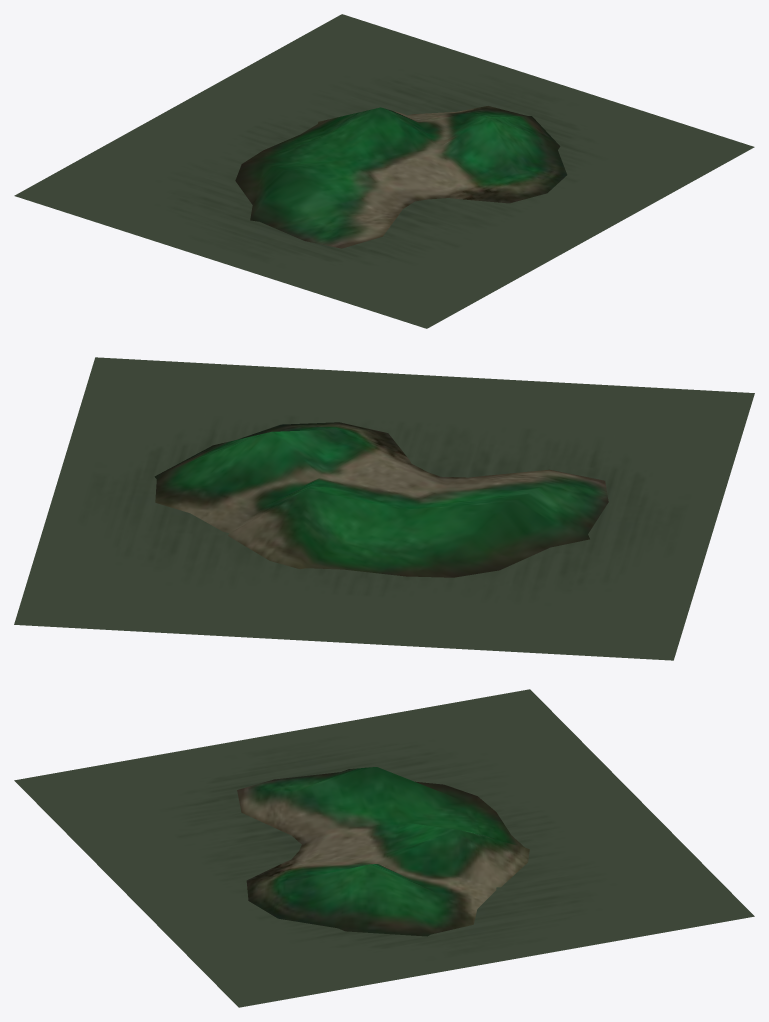
The model's file is pir_m_are_isl_driftwood_worldmap.fbx.
3 views of the same model, one above another, from view 1: azimuth 30°, elevation 25°; view 2: azimuth 150°, elevation 25°; view 3: azimuth 270°, elevation 25° (orthographic). The views are drawn at different scales.
Visible parts, largest first — view 1: sketchmark, top_mesh; view 2: sketchmark, top_mesh; view 3: sketchmark, top_mesh.
Boxes of the visible parts, x1,y1,x2,y2 form: sketchmark: (14,14,754,328); top_mesh: (235,106,567,248); sketchmark: (14,357,754,660); top_mesh: (154,422,608,577); sketchmark: (14,689,754,1007); top_mesh: (237,767,529,936).
Size of the model in its own units: 19.62 by 1.08 by 19.29.
2 materials, 2 textured.
